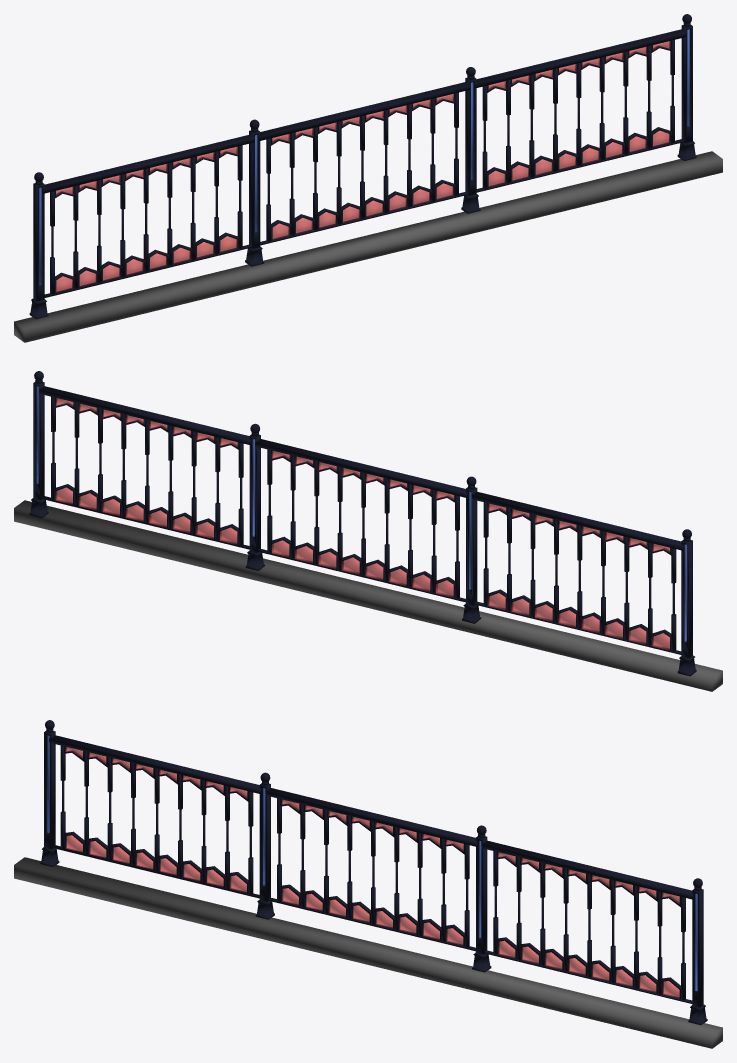
Rendered from fence.obj.
The picture shows the model from 3 angles, top to bottom: view 1: azimuth 30°, elevation 25°; view 2: azimuth 150°, elevation 25°; view 3: azimuth 330°, elevation 25°; orthographic projection.
Parts seen in each view (by area): view 1: Box60, Box21, Rectangle111, Rectangle01, Rectangle110, Rectangle02, Rectangle32, Rectangle101, Rectangle66; view 2: Box60, Box21, Rectangle01, Rectangle110, Rectangle111, Rectangle02, Rectangle101, Rectangle66, Rectangle32; view 3: Box60, Box21, Rectangle01, Rectangle110, Rectangle111, Rectangle101, Rectangle32, Rectangle02, Rectangle66.
Boxes of the visible parts, x1,y1,x2,y2 form: Box60: (14,151,722,342); Box21: (44,139,684,297); Rectangle111: (42,135,254,193); Rectangle01: (475,29,686,88); Rectangle110: (259,82,470,140); Rectangle02: (33,183,44,301); Rectangle32: (249,130,260,248); Rectangle101: (681,25,692,143); Rectangle66: (465,78,476,195); Box60: (14,500,722,691); Box21: (42,496,681,654); Rectangle01: (39,386,251,445); Rectangle110: (255,439,467,497); Rectangle111: (471,491,683,550); Rectangle02: (681,540,692,658); Rectangle101: (33,382,44,500); Rectangle66: (249,434,260,552); Rectangle32: (466,487,477,605); Box60: (14,857,722,1048); Box21: (52,845,692,1003); Rectangle01: (481,840,693,899); Rectangle110: (265,788,477,846); Rectangle111: (49,735,260,793); Rectangle101: (692,889,703,1007); Rectangle32: (259,783,270,901); Rectangle02: (44,731,55,849); Rectangle66: (476,836,487,954).
Size of the model in its own units: 446 by 95.42 by 15.44.
